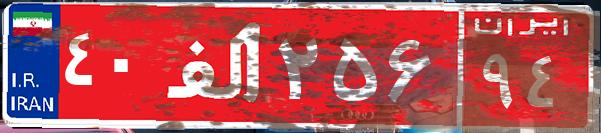0: (110, 28, 158, 105)
2: (273, 28, 330, 110)
4: (57, 26, 110, 107), (525, 38, 570, 115)
5: (330, 28, 385, 110)
6: (385, 28, 445, 110)
9: (475, 38, 525, 113)
الف: (158, 15, 273, 115)
